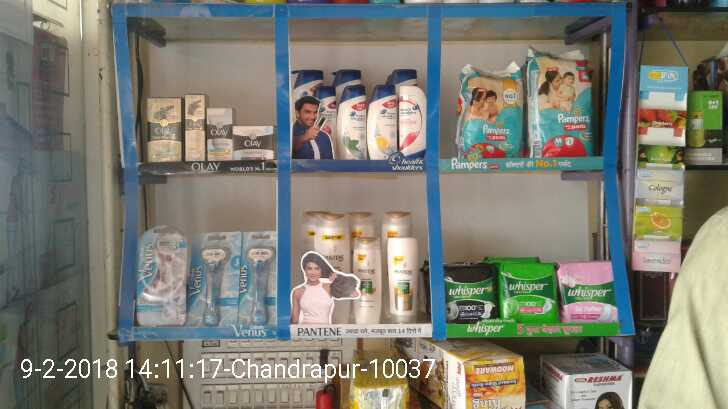venus: (138, 222, 187, 325), (192, 229, 239, 323), (239, 232, 276, 323)
